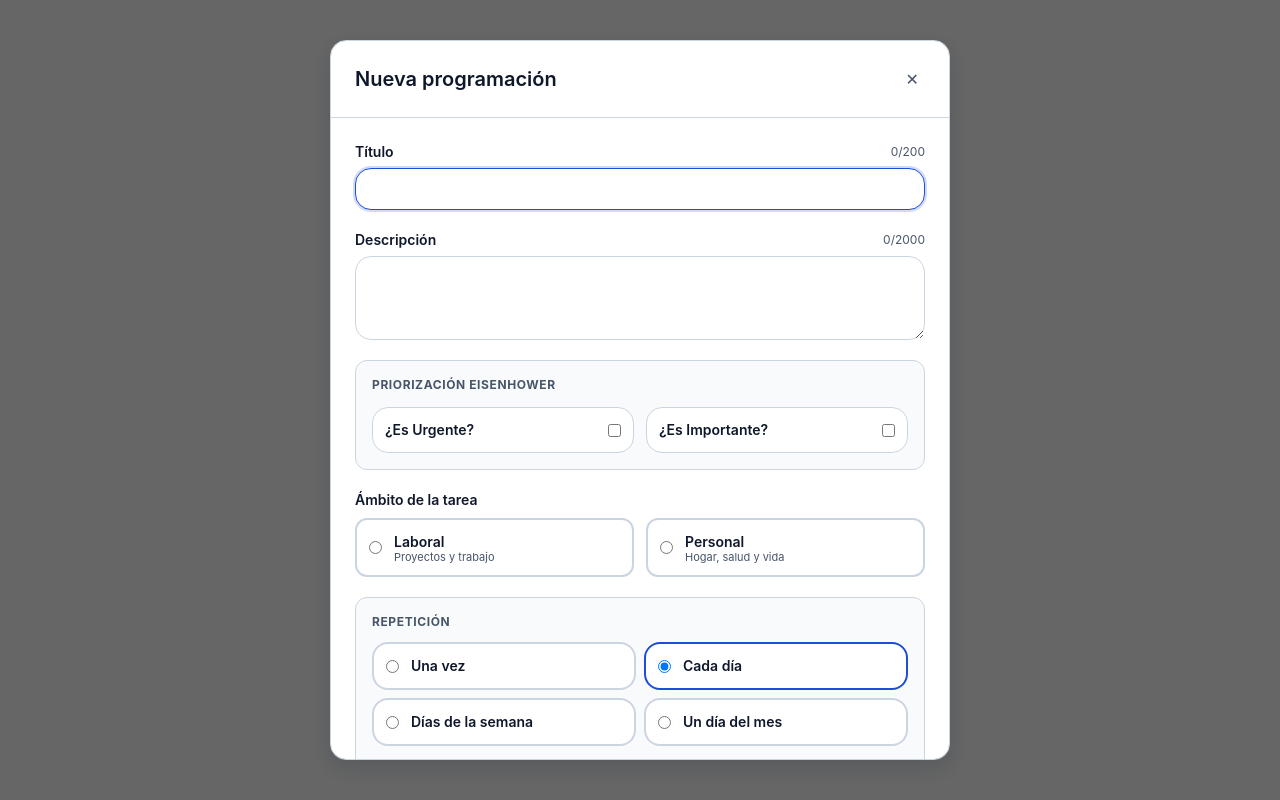
Test case: <ScheduleForm> (crear) › días de la semana › sin ningún día pide elegir al menos uno y no envía
In the field labelled "Título": (640, 189) [355, 168, 925, 210], type "  Informe semanal  "
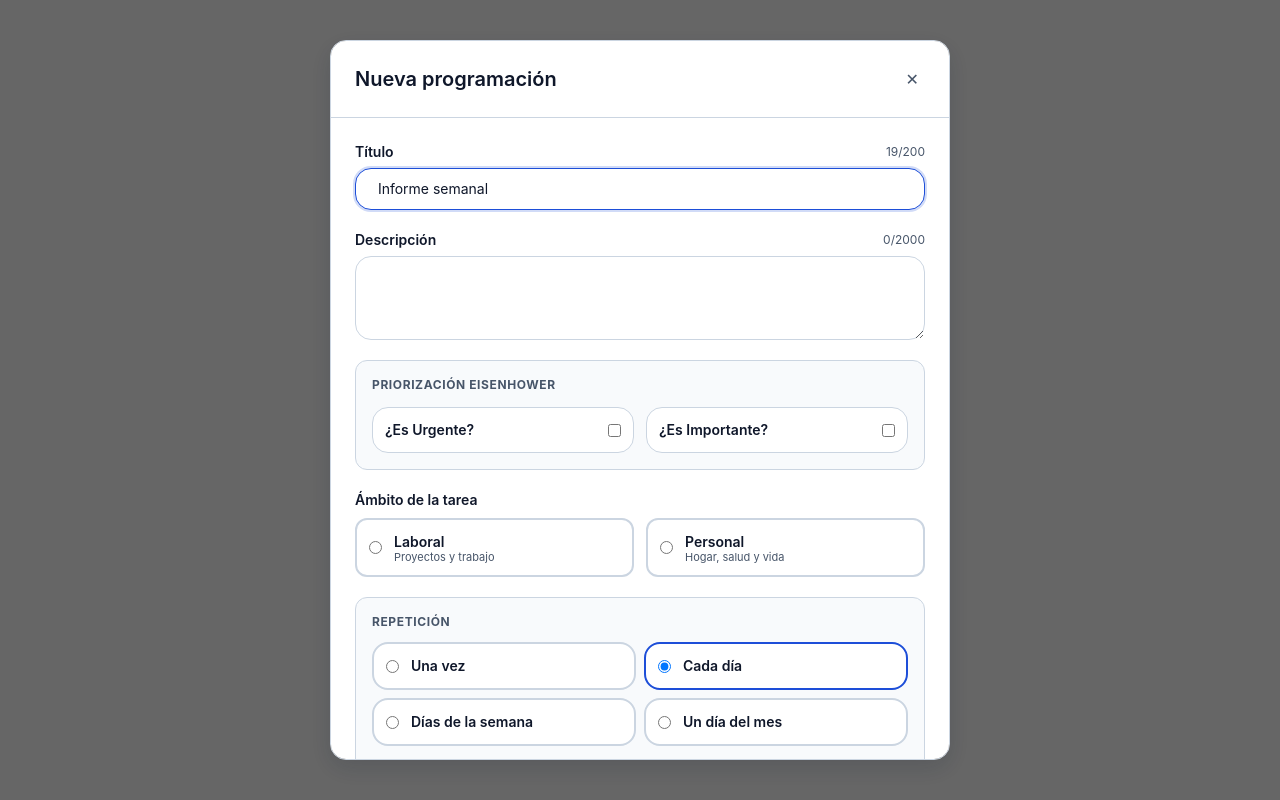
In the text box labelled "Descripción": (640, 298) [355, 256, 925, 340], type "Enviar el resumen"
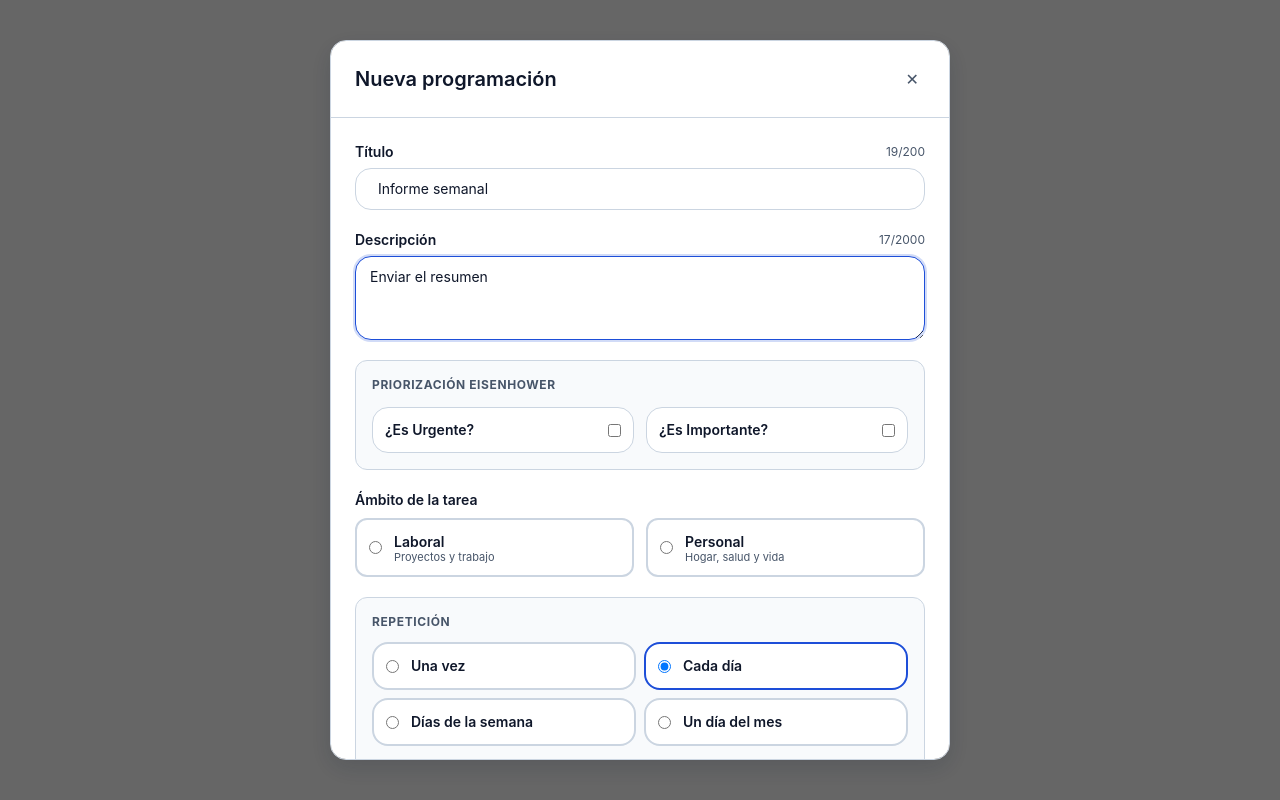
Click the checkbox named "Marcar como importante": click(888, 430) [882, 424, 895, 436]
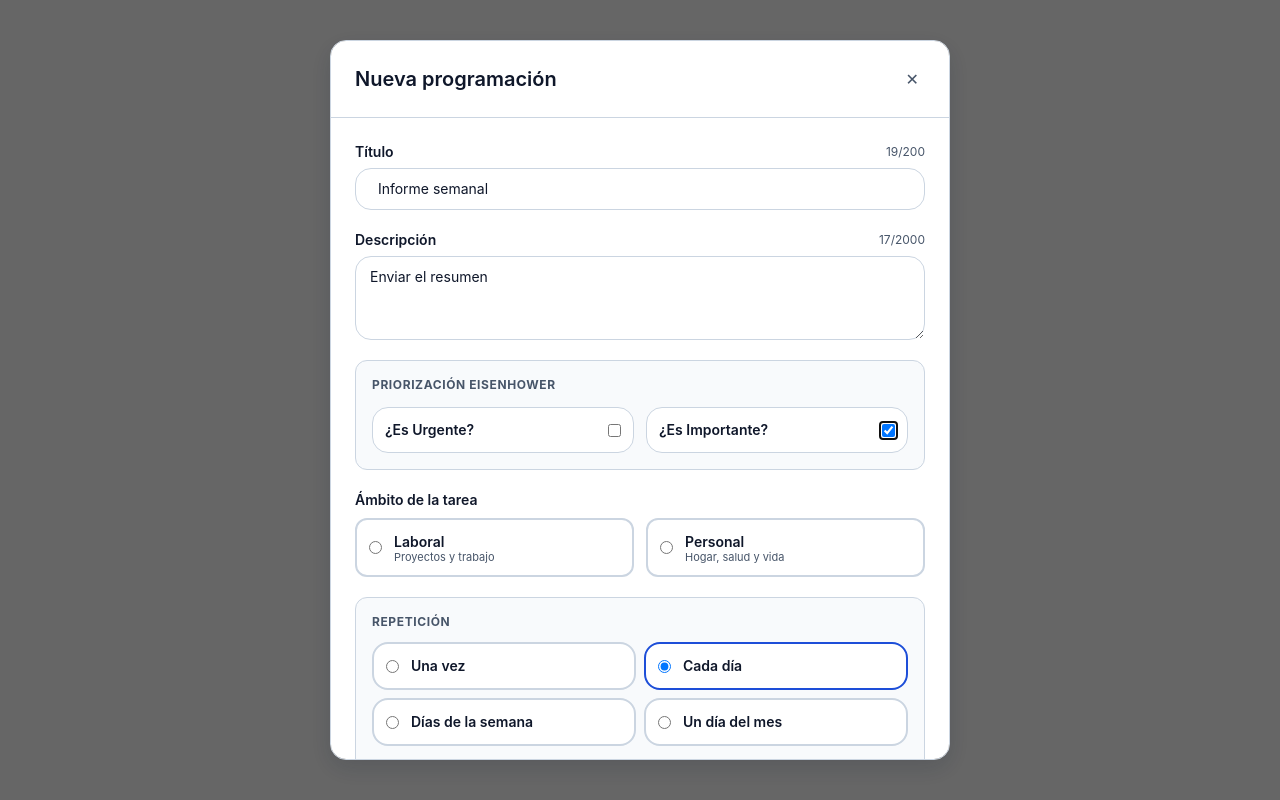
Click the radio button labelled "Laboral": click(376, 548) [369, 541, 382, 554]
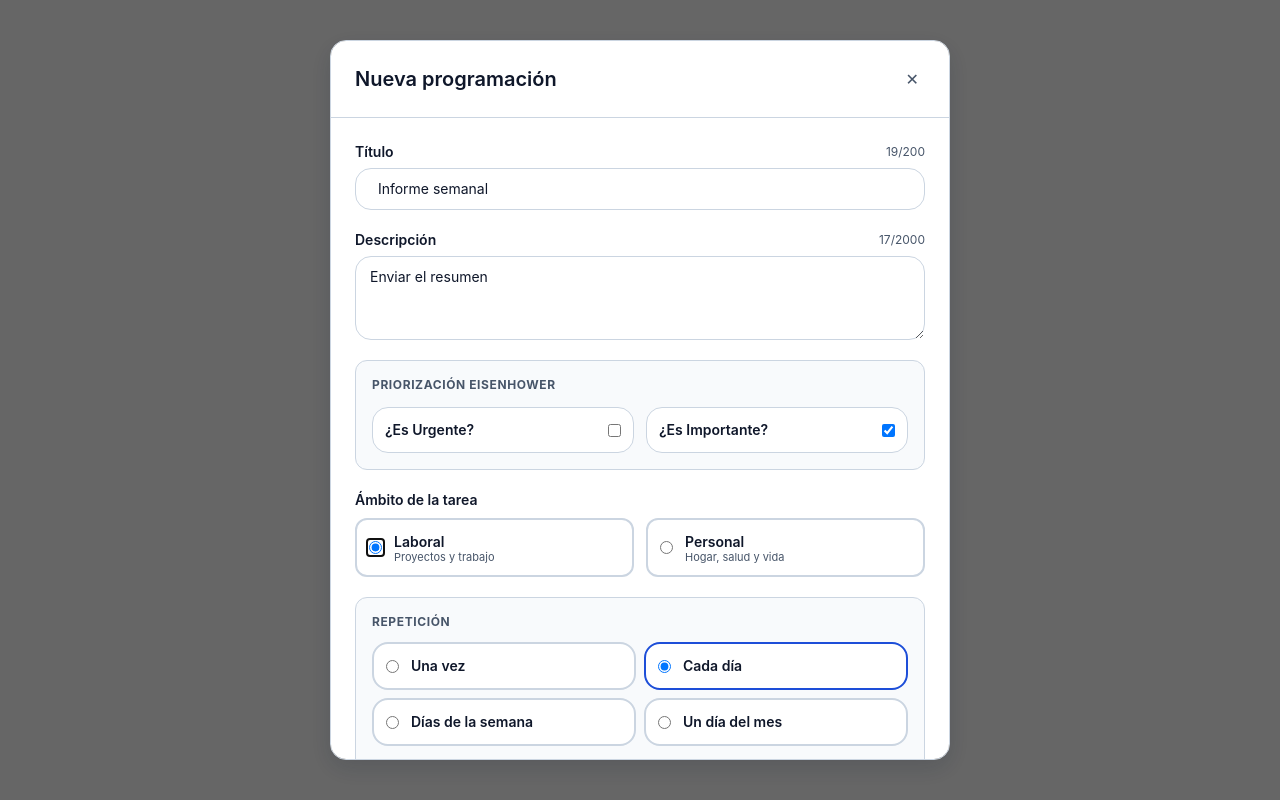
Click the radio button labelled "Días de la semana": click(392, 722) [386, 716, 399, 728]
(page scrolled)
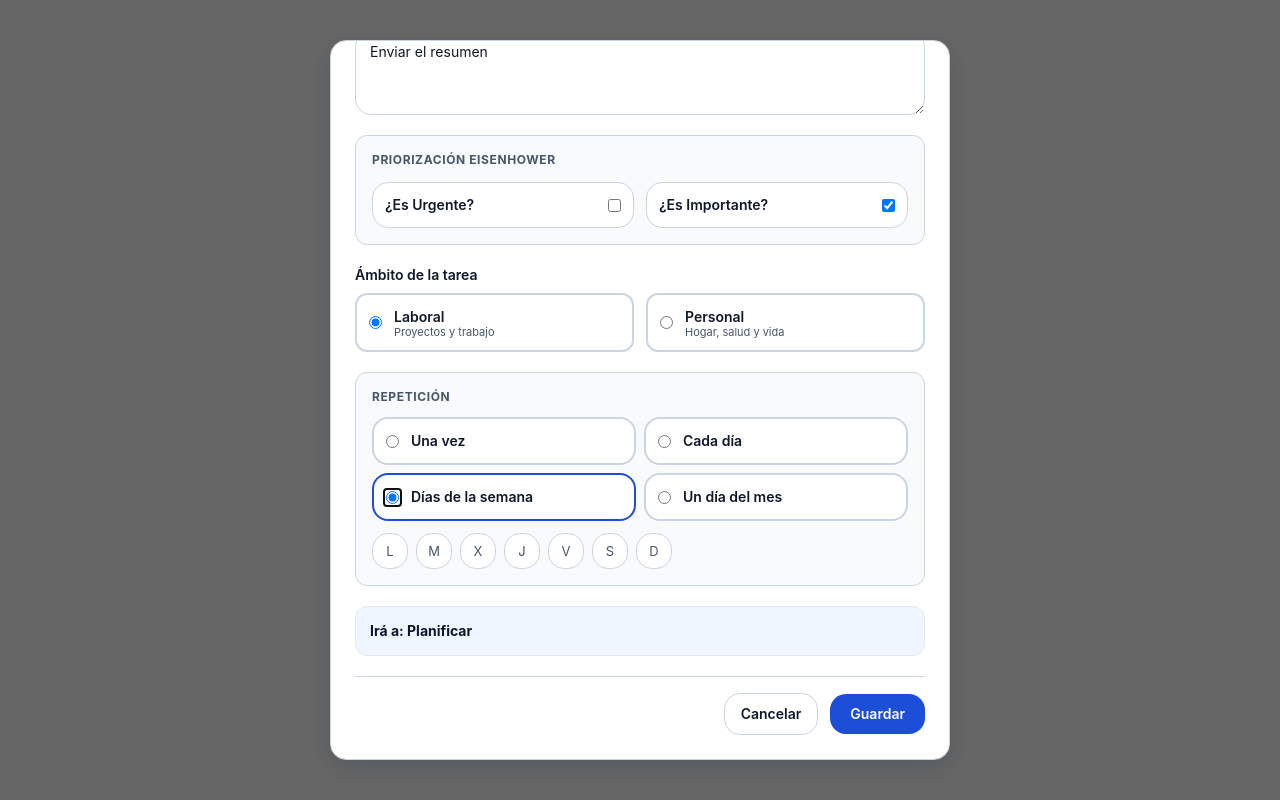
Click the button "Guardar": click(878, 714) [830, 694, 925, 734]
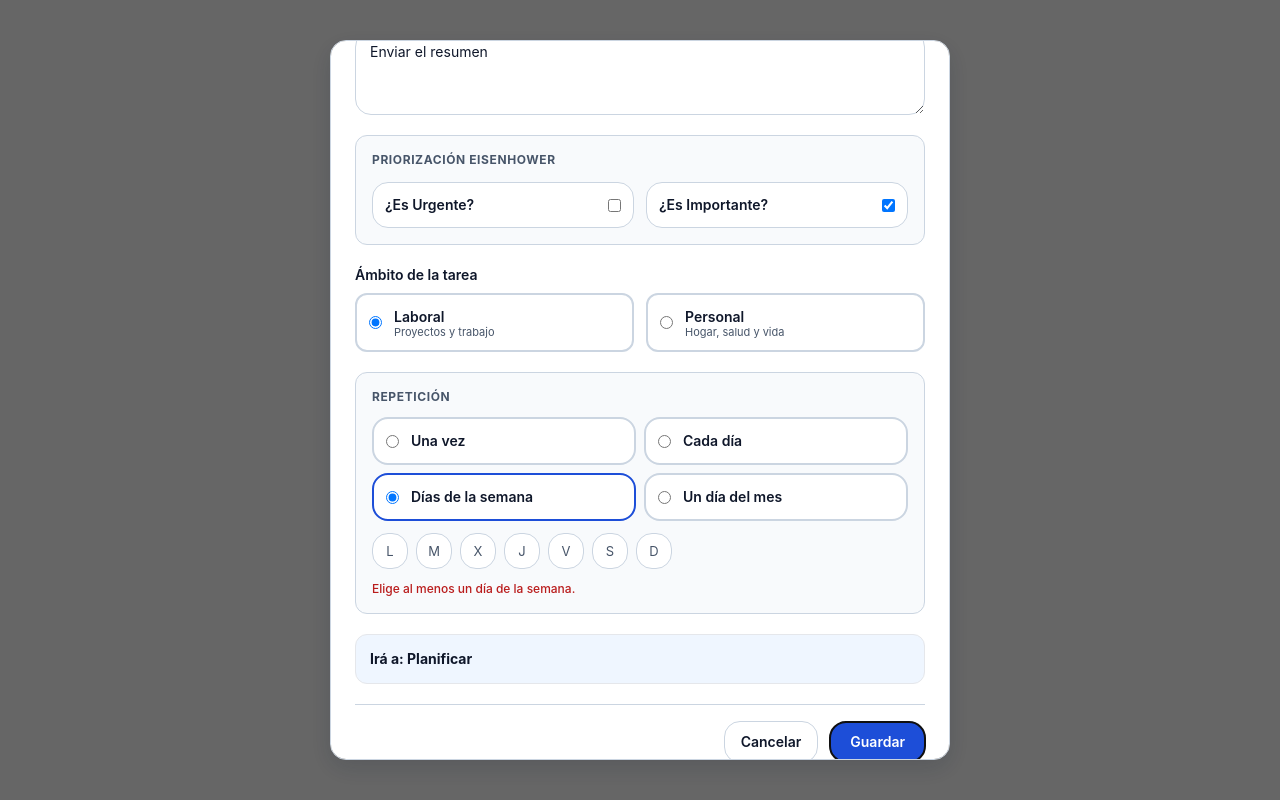
Result: the text "Elige al menos un día de la semana." is shown at [372, 581, 575, 596]
